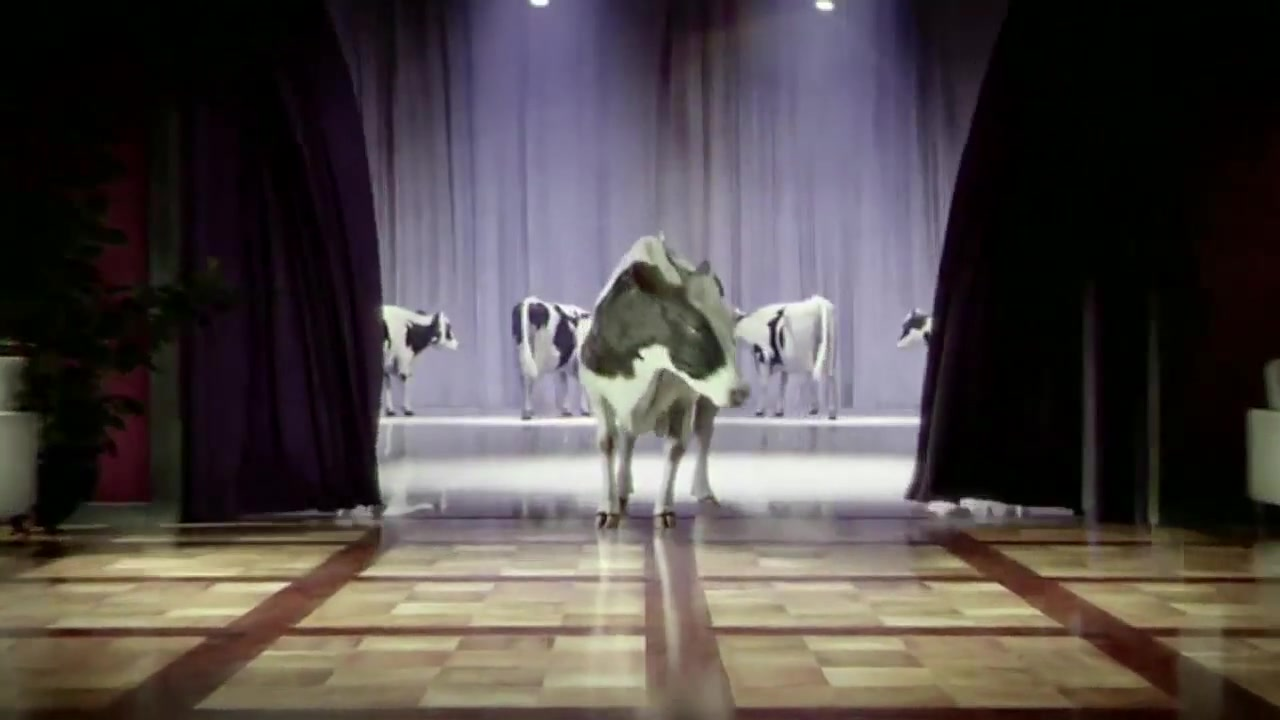cow: (579, 238, 750, 537)
